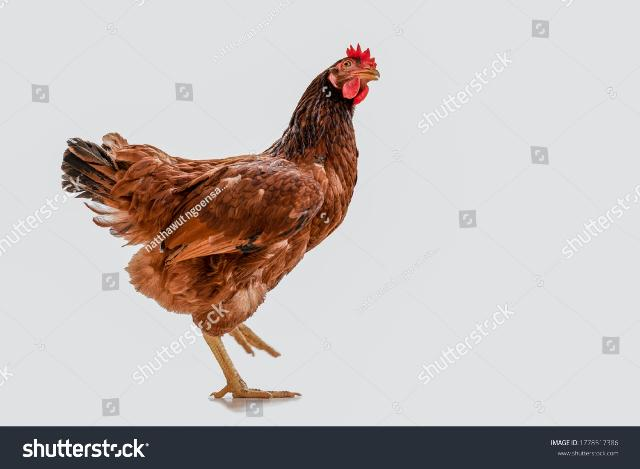Chicken: (63, 43, 382, 398)
